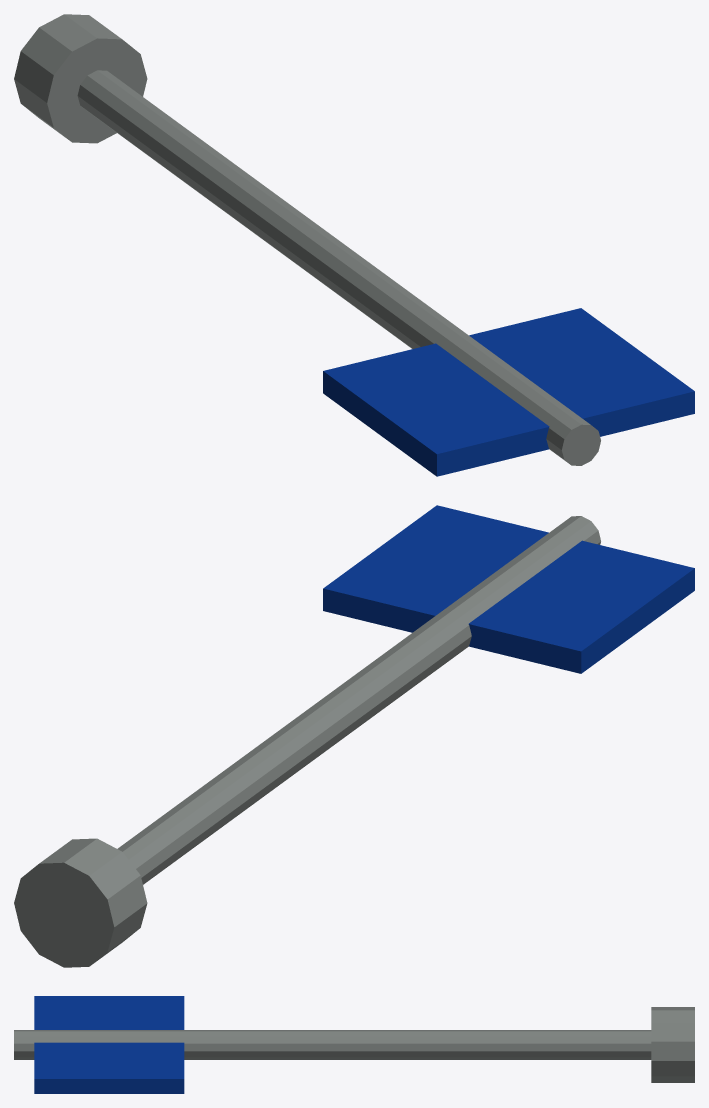
File: road_sign.obj
3 views of the same model, one above another, from view 1: azimuth 30°, elevation 25°; view 2: azimuth 150°, elevation 25°; view 3: azimuth 270°, elevation 25° (orthographic). The views are drawn at different scales.
Visible parts, largest first — view 1: road_sign; view 2: road_sign; view 3: road_sign.
Boxes of the visible parts, left/top/right/bottom form: road_sign: left=14, top=14, right=694, bottom=476; road_sign: left=14, top=505, right=694, bottom=967; road_sign: left=14, top=996, right=694, bottom=1093.
Size of the model in its own units: 0.72 by 0.28 by 2.5.
